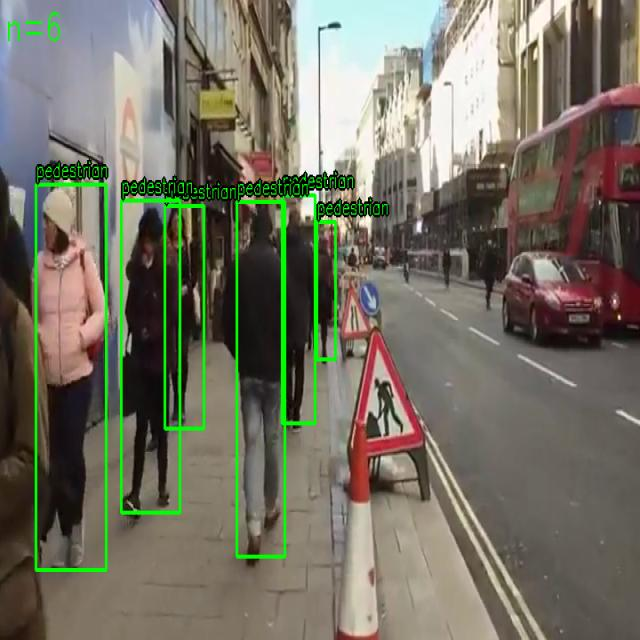with scooter: (36, 184, 106, 571), (121, 200, 180, 513), (237, 202, 286, 558), (164, 206, 204, 430), (282, 195, 316, 424), (316, 221, 336, 360)
